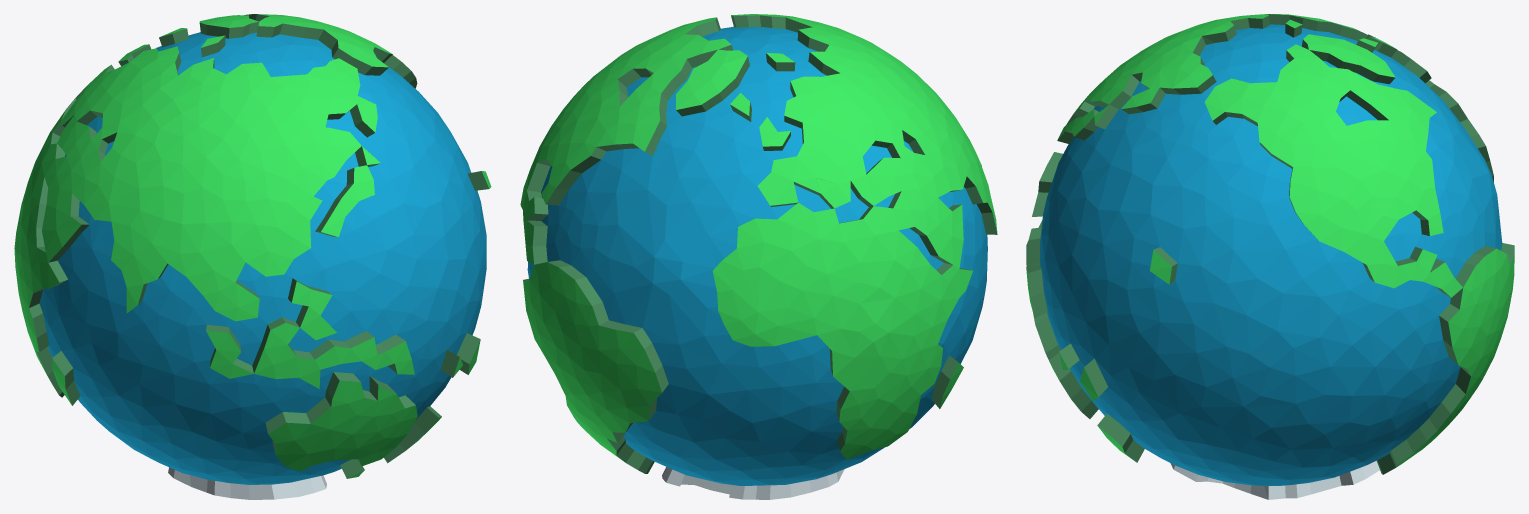
File: planet1.glb
3 views of the same model, side by side, from view 1: azimuth 30°, elevation 25°; view 2: azimuth 150°, elevation 25°; view 3: azimuth 270°, elevation 25° (orthographic).
Visible parts, largest first — view 1: Sphere; view 2: Sphere; view 3: Sphere.
Part boxes in pixels (left/top/right/bottom): Sphere: left=14, top=14, right=491, bottom=499; Sphere: left=520, top=14, right=997, bottom=499; Sphere: left=1026, top=14, right=1514, bottom=499.
Bounding box in the file's own units: 2.04 × 2.11 × 2.11.
